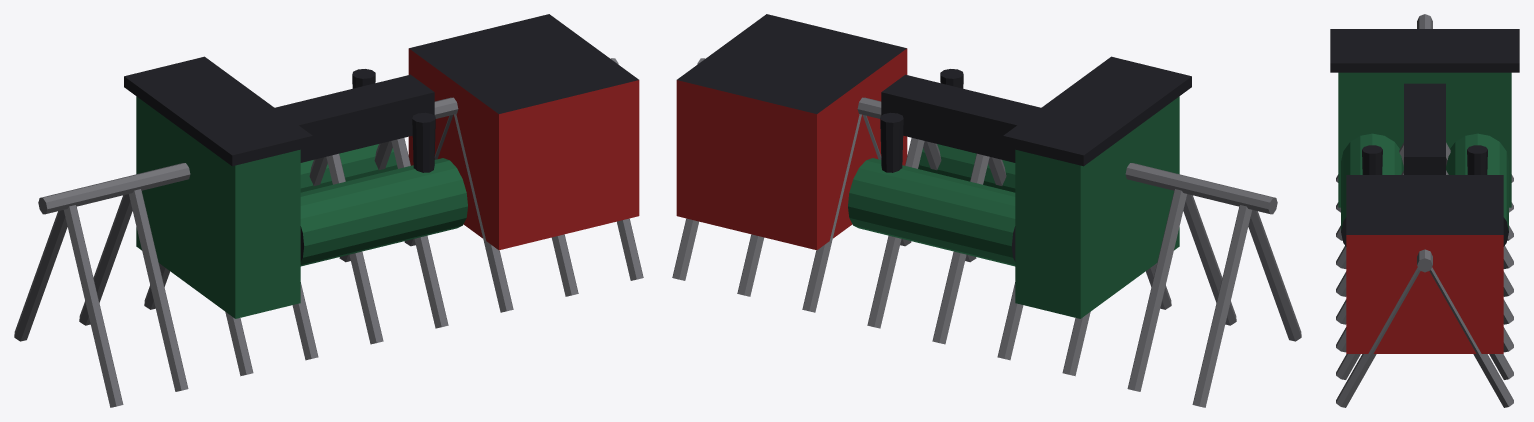
The model's file is monorail.glb.
3 views of the same model, side by side, from view 1: azimuth 30°, elevation 25°; view 2: azimuth 150°, elevation 25°; view 3: azimuth 270°, elevation 25° (orthographic). The views are drawn at different scales.
Size of the model in its own units: 2.2 by 0.8499 by 0.72.
